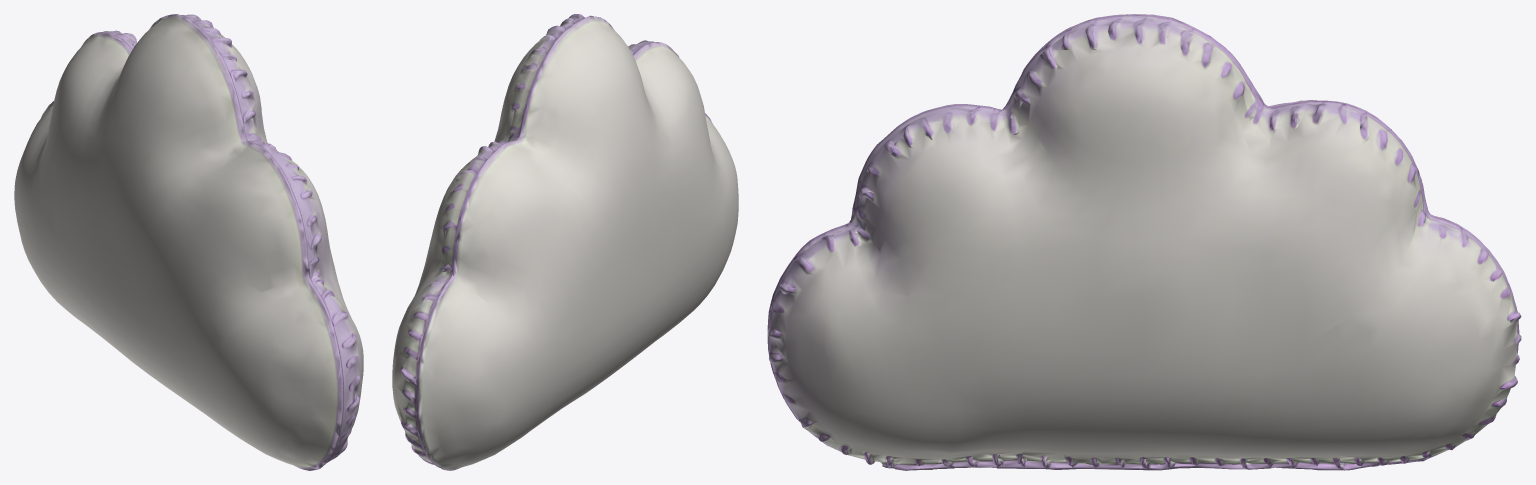
3 renders of one model, left to right at view 1: azimuth 30°, elevation 25°; view 2: azimuth 150°, elevation 25°; view 3: azimuth 270°, elevation 25°, orthographic. The views are drawn at different scales.
Visible parts, largest first — view 1: repaired; view 2: repaired; view 3: repaired.
Boxes of the visible parts, left/top/right/bottom form: repaired: left=14, top=14, right=363, bottom=470; repaired: left=392, top=14, right=738, bottom=470; repaired: left=767, top=14, right=1521, bottom=470.
Size of the model in its own units: 0.271 by 0.6602 by 0.9991.
1 material, 1 textured.
